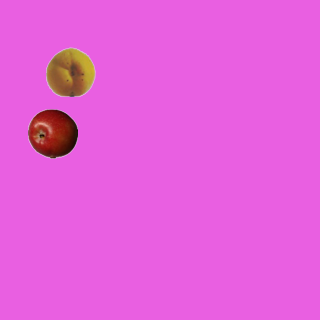Apple Braeburn: (27, 108, 77, 158)
Peach 2: (45, 46, 95, 96)
